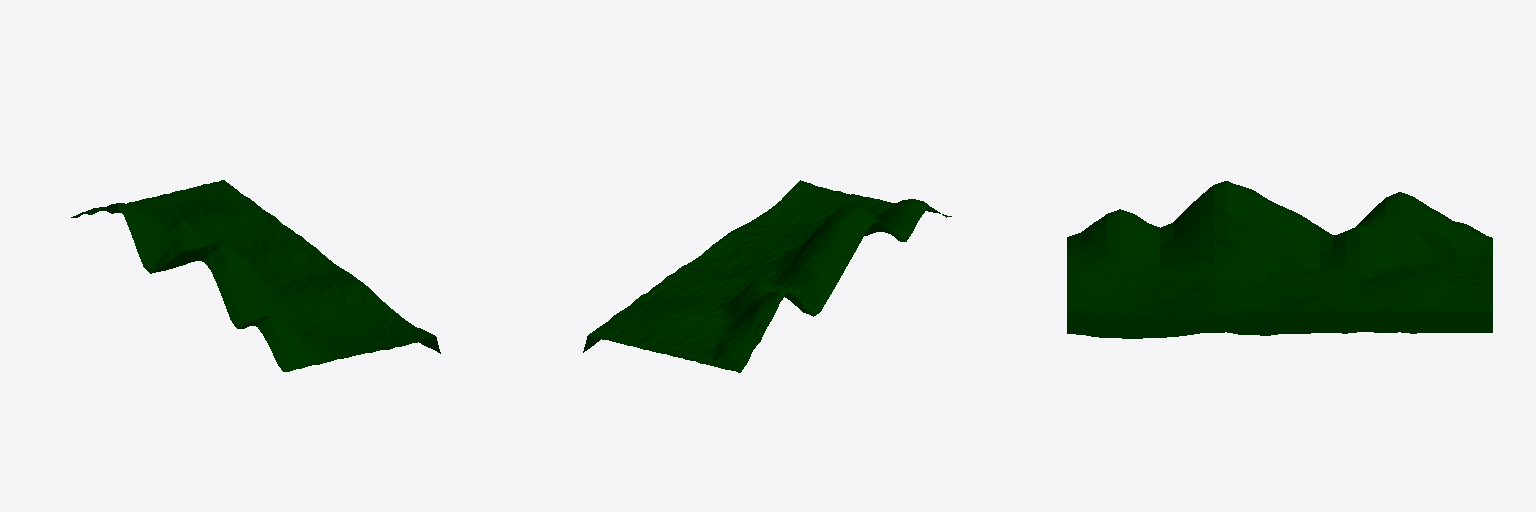
Rendered from plains_2.obj.
3 renders of one model, left to right at view 1: azimuth 30°, elevation 25°; view 2: azimuth 150°, elevation 25°; view 3: azimuth 270°, elevation 25°, orthographic.
Parts seen in each view (by area): view 1: Plane; view 2: Plane; view 3: Plane.
Part boxes in pixels (x1,y1,x2,y2): Plane: (71, 180, 440, 371); Plane: (583, 180, 951, 372); Plane: (1067, 181, 1492, 338).
Size of the model in its own units: 6.77 by 3.68 by 15.84.